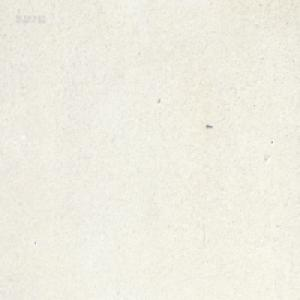Nail: (205, 123, 212, 129)
